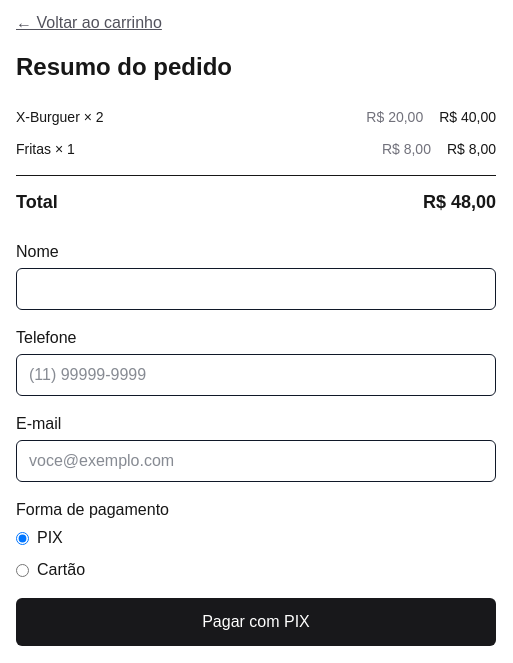
Test: CheckoutPage › applies Brazilian phone mask as user types
This screenshot has width=513, height=663.
Type "11987654321" into the field labelled "Telefone" at coordinates (256, 375), box top-left (16, 354), bottom-right (496, 396)
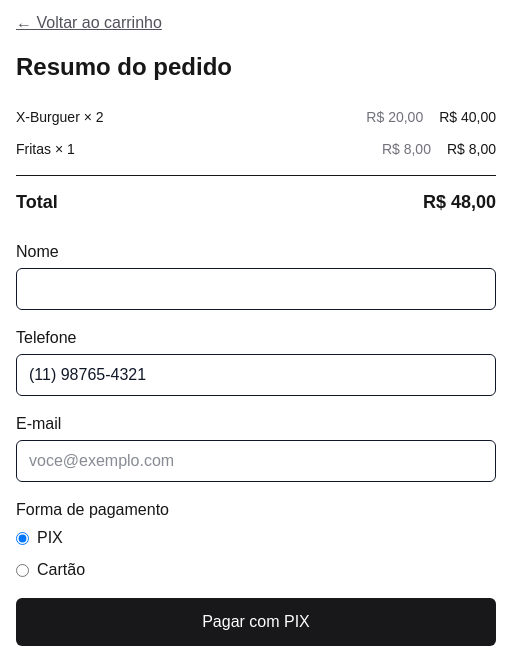
Now the field labelled "Telefone" holds "(11) 98765-4321", box top-left (16, 354), bottom-right (496, 396)
